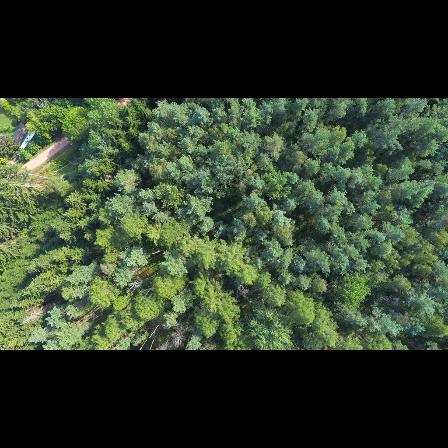Dead: (21, 308, 46, 328), (168, 326, 187, 349), (125, 275, 145, 295), (234, 280, 250, 299)
